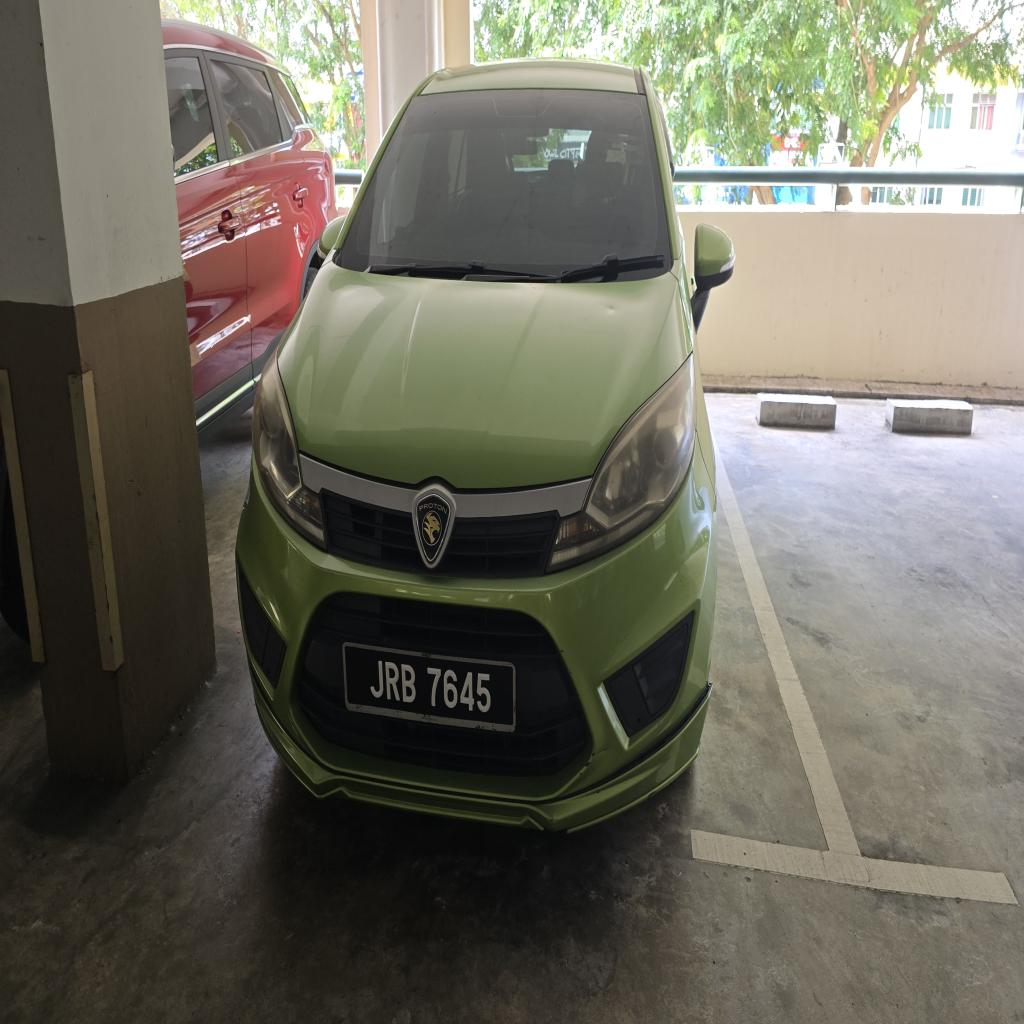car: (237, 61, 732, 828)
car plate: (343, 643, 515, 731)
